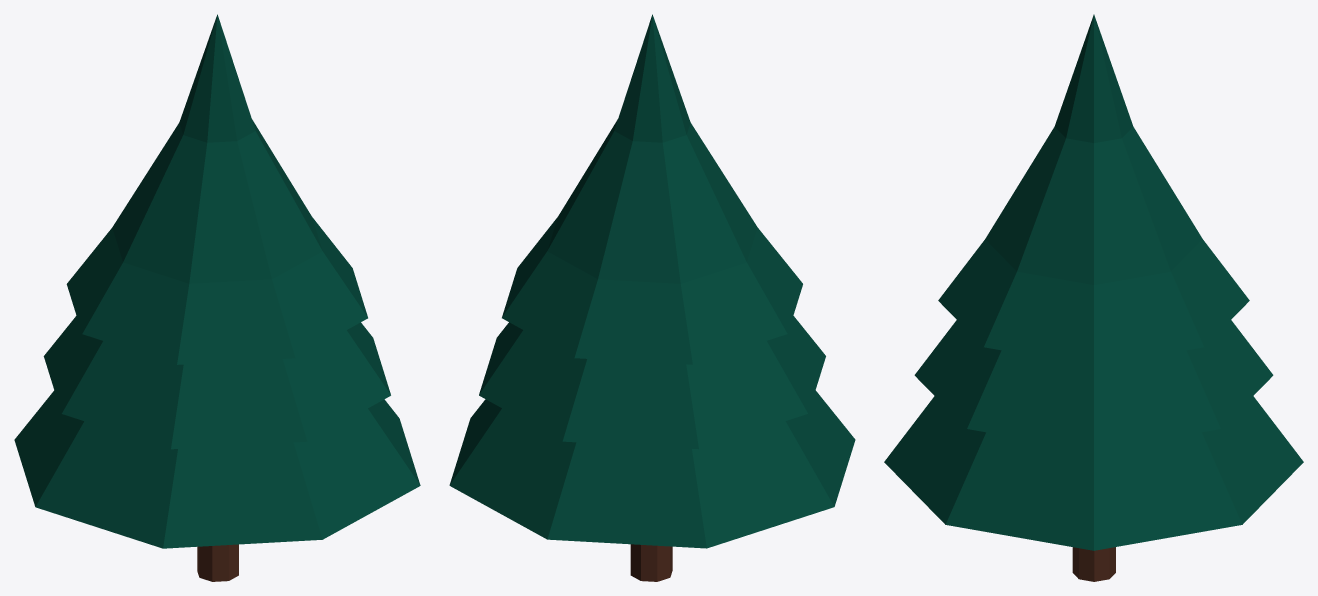
File: pino.obj
3 renders of one model, left to right at view 1: azimuth 30°, elevation 25°; view 2: azimuth 150°, elevation 25°; view 3: azimuth 270°, elevation 25°, orthographic.
Parts seen in each view (by area): view 1: Firtree_3; view 2: Firtree_3; view 3: Firtree_3.
Part boxes in pixels (x1,y1,x2,y2): Firtree_3: [14, 14, 420, 581]; Firtree_3: [449, 14, 855, 581]; Firtree_3: [884, 14, 1303, 581].
Size of the model in its own units: 2.36 by 3.47 by 2.36.
1 material, 1 textured.
